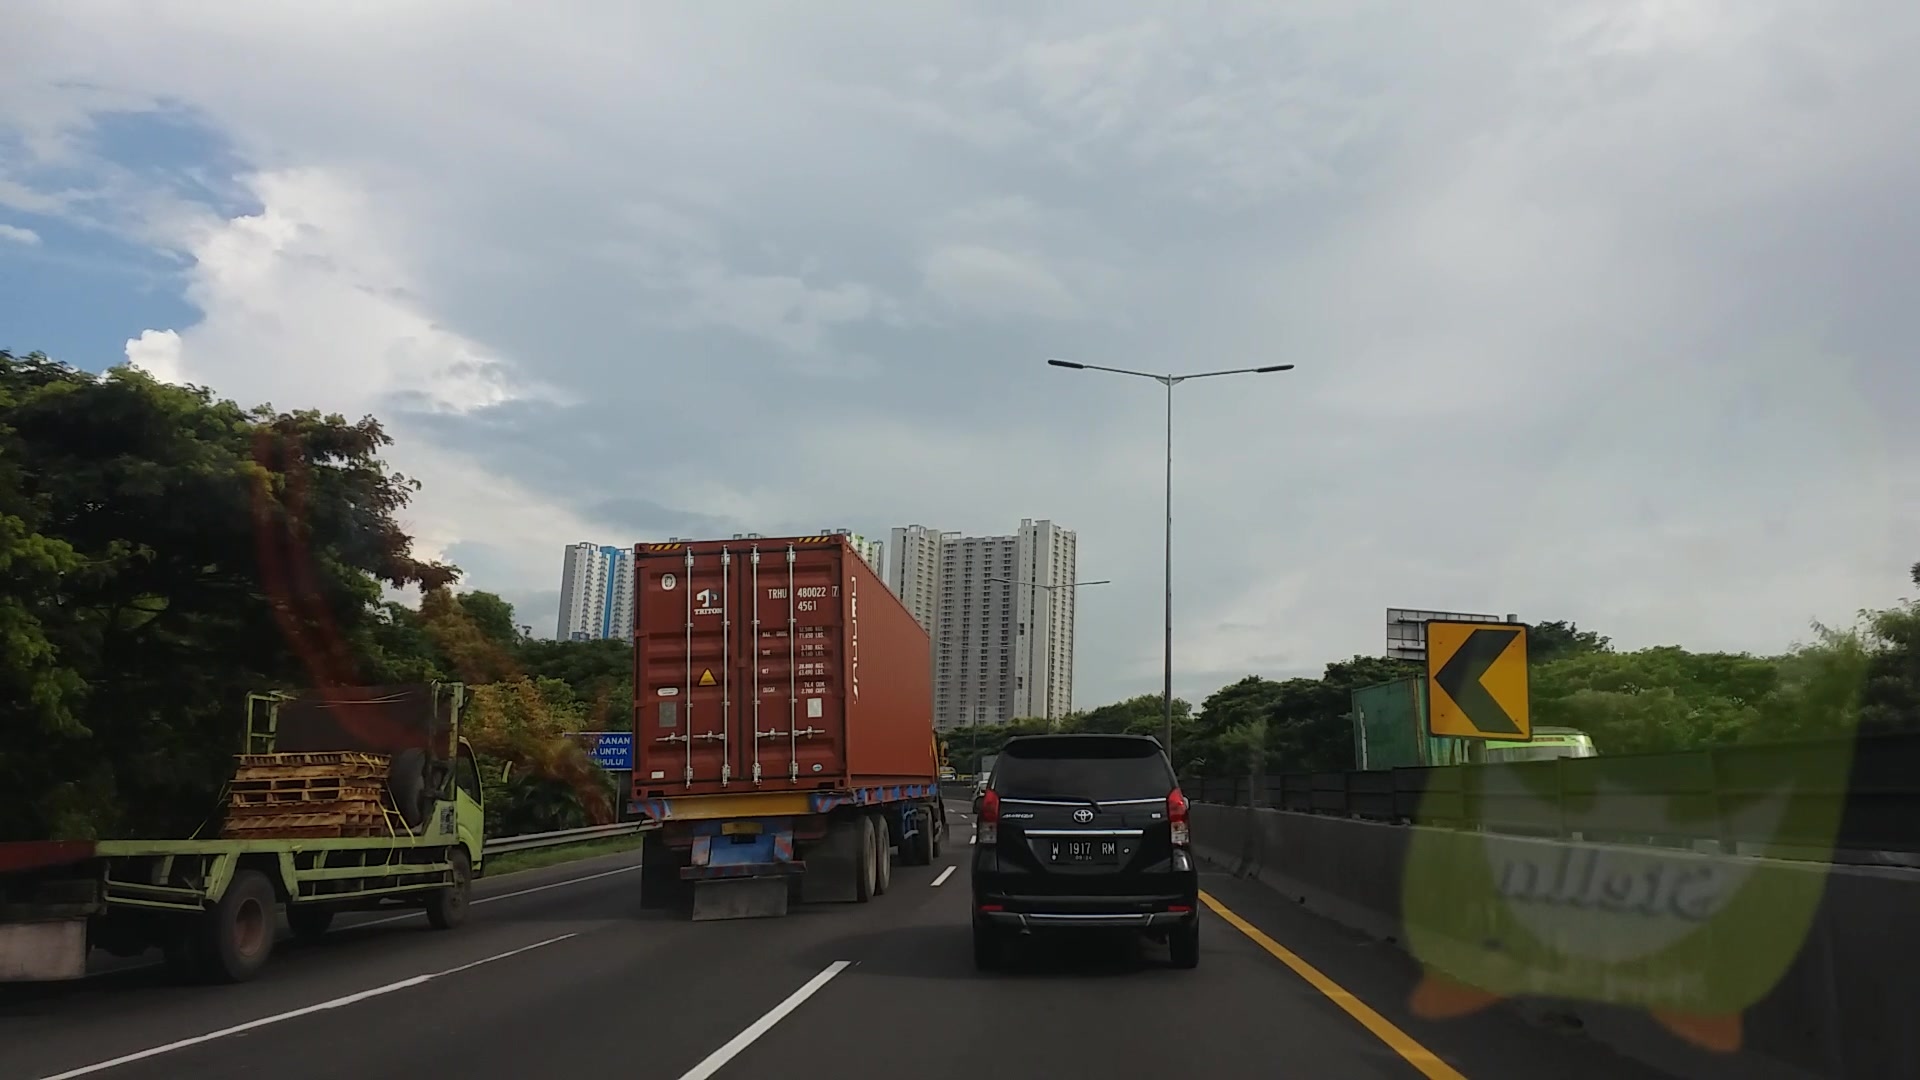plate_positive: (1048, 836, 1117, 866)
